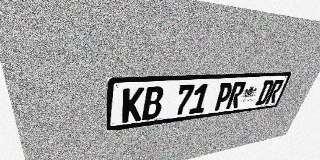1: (189, 83, 211, 114)
7: (173, 84, 195, 116)
B: (142, 86, 164, 120)
D: (255, 80, 275, 105)
K: (121, 87, 144, 123)
P: (213, 82, 234, 111)
R: (225, 81, 247, 109), (265, 79, 285, 104)
